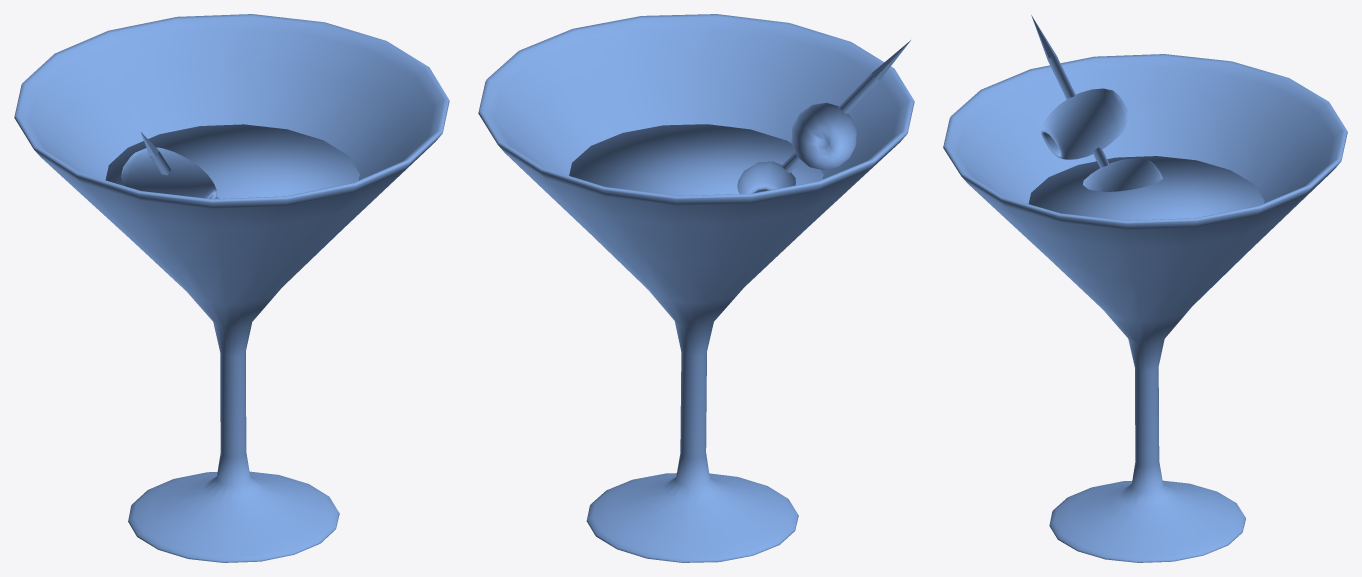
File: martini.fbx
The picture shows the model from 3 angles, left to right: view 1: azimuth 30°, elevation 25°; view 2: azimuth 150°, elevation 25°; view 3: azimuth 270°, elevation 25°; orthographic projection. The views are drawn at different scales.
Parts seen in each view (by area): view 1: martini; view 2: martini; view 3: martini.
Part boxes in pixels (box(x1,y1,x2,y2)): martini: box(14, 14, 449, 562); martini: box(478, 14, 914, 562); martini: box(943, 15, 1347, 562).
Size of the model in its own units: 5.65 by 6.76 by 5.65.
